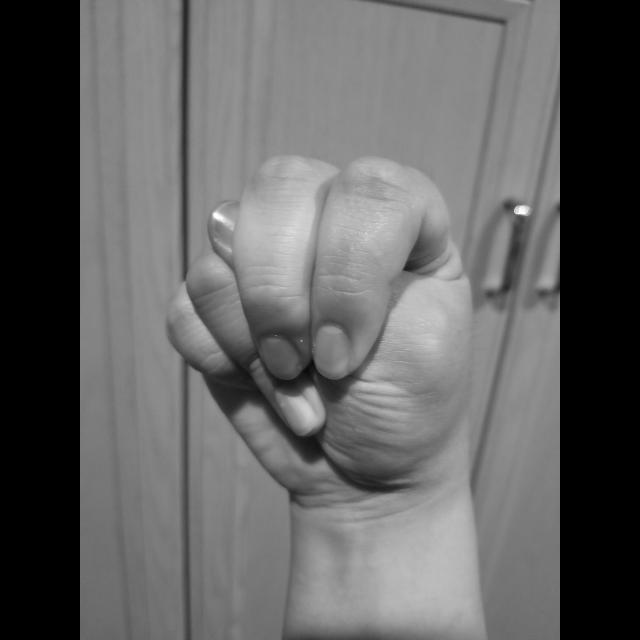N: (155, 145, 479, 500)
